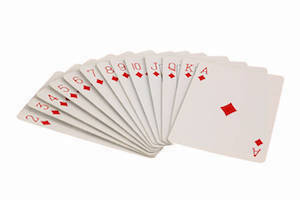AceOfDiamonds: (193, 57, 287, 164)
JackOfDiamonds: (144, 54, 169, 133)
KingOfDiamonds: (179, 56, 198, 133)
NineOfDiamonds: (110, 54, 132, 106)
QueenOfDiamonds: (158, 55, 177, 138)
TenOfDiamonds: (127, 55, 156, 127)
